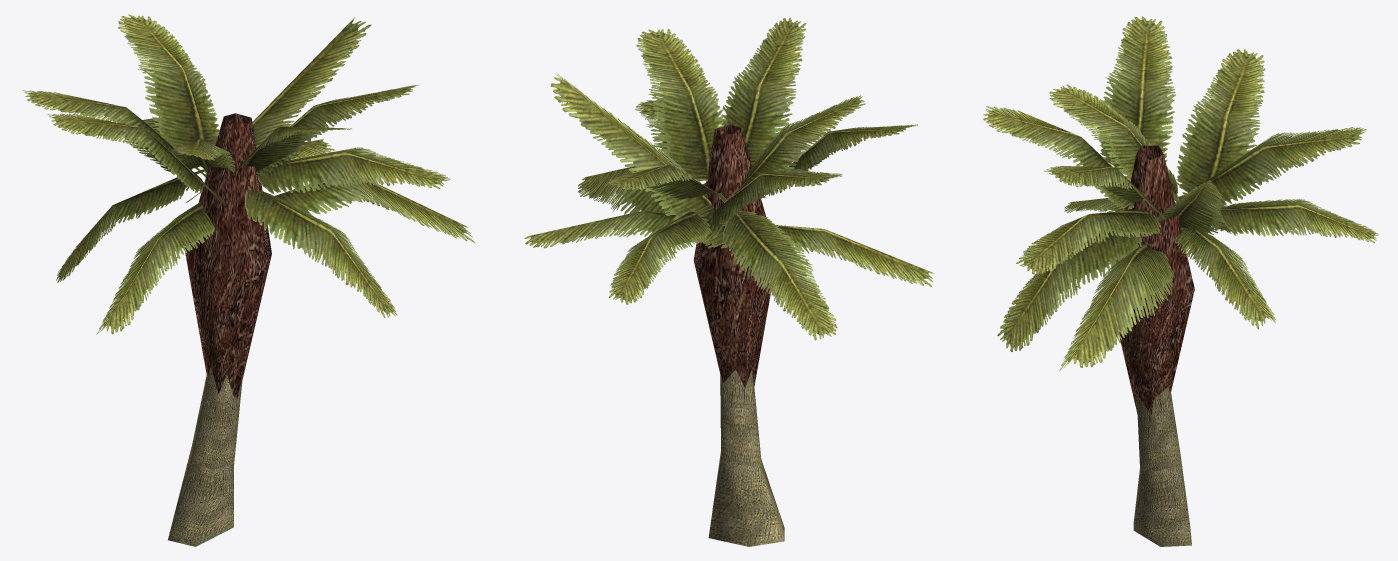
The model's file is palm_date_c.glb.
3 views of the same model, side by side, from view 1: azimuth 30°, elevation 25°; view 2: azimuth 150°, elevation 25°; view 3: azimuth 270°, elevation 25° (orthographic). The views are drawn at different scales.
Bounding box in the file's own units: 10.88 × 11.74 × 9.83.
Materials: 1 (1 with a texture image).
